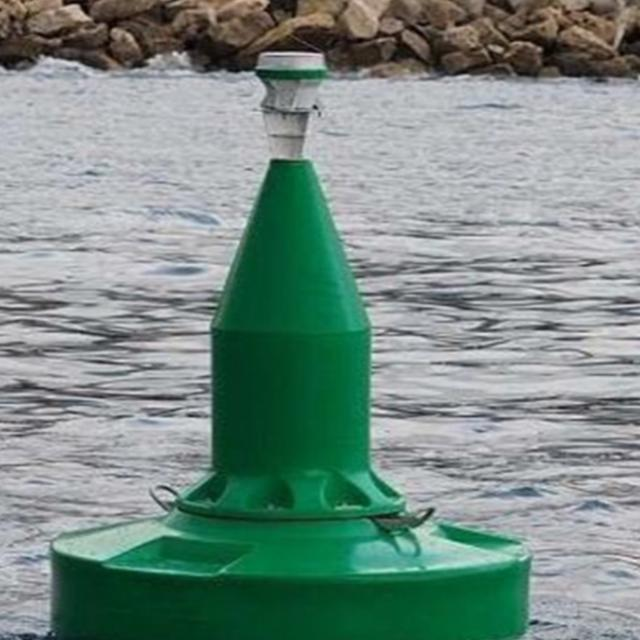buoy: (47, 45, 538, 640)
